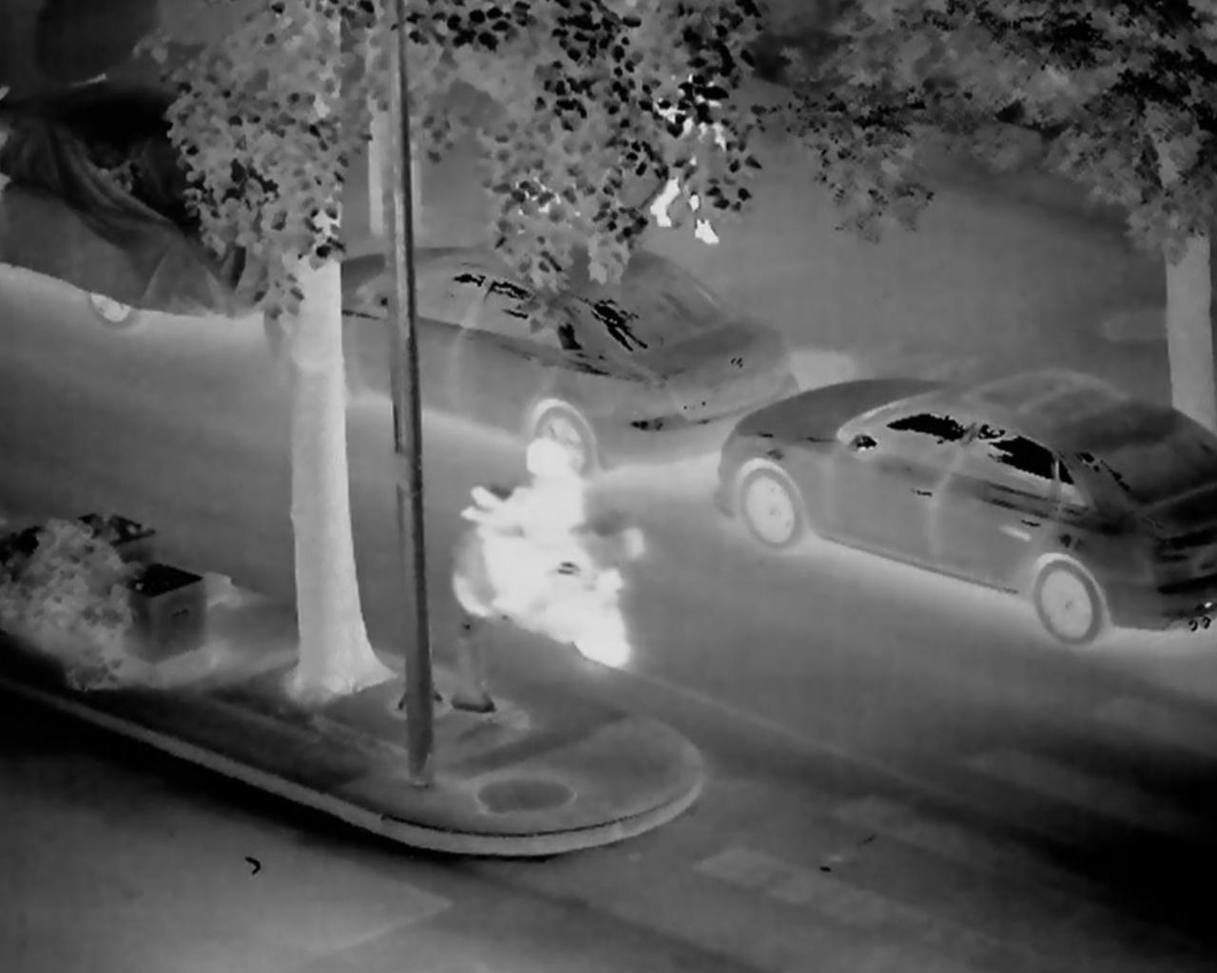person: (462, 437, 600, 626), (624, 61, 744, 261)
